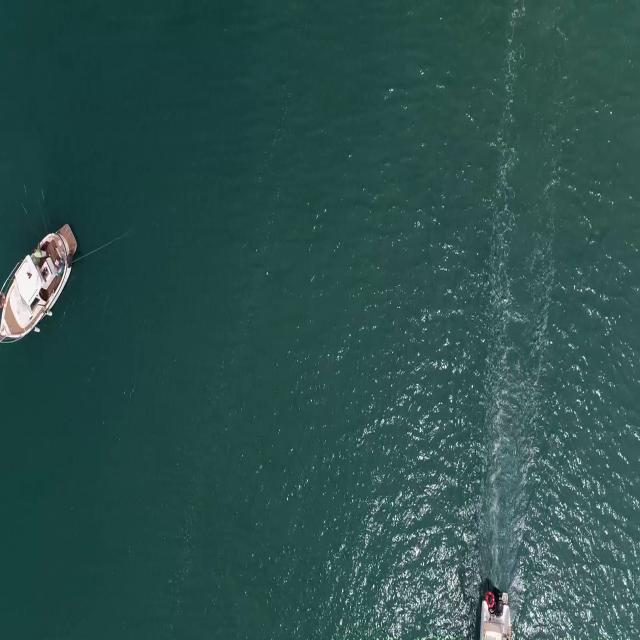boat: (3, 221, 77, 345), (475, 604, 516, 640)
life_buoy: (484, 589, 495, 608)
person: (32, 248, 48, 260), (54, 259, 65, 275)
